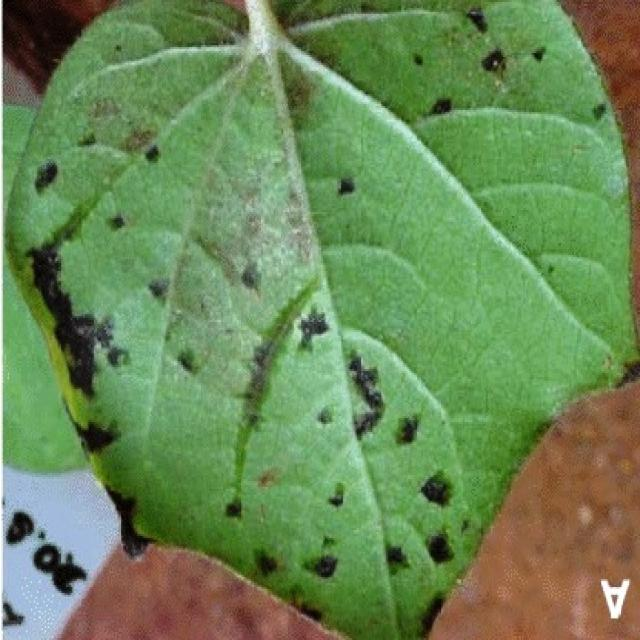Bacterial Blight: (11, 194, 481, 584)
